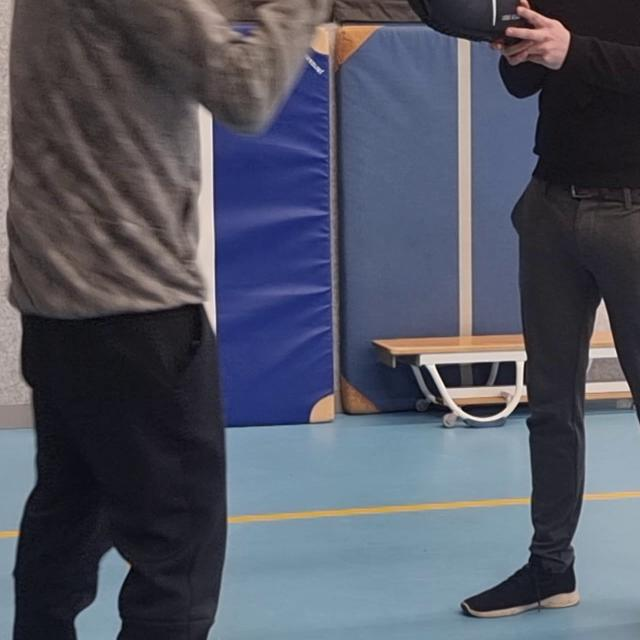paddle: (396, 0, 531, 46)
